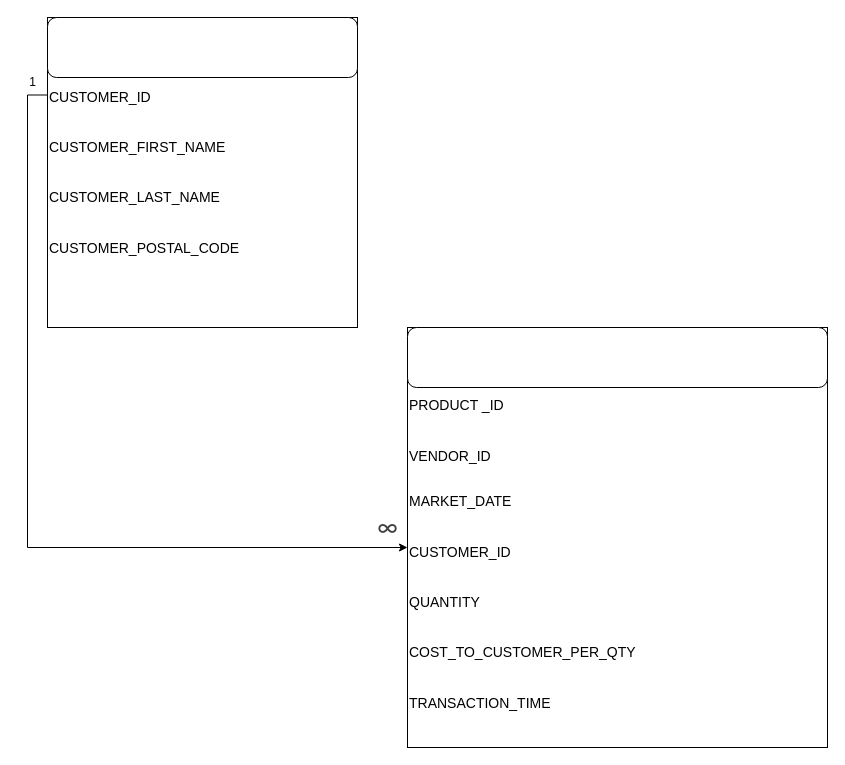
Some shapes in this 845 by 765 pixel diagram are drawn without their labels. The centre of each missing label's shape, as x and y in pixels:
"CUSTOMER" belongs at (x=202, y=47).
"CUSTOMER_PURCHASES" belongs at (x=617, y=357).
